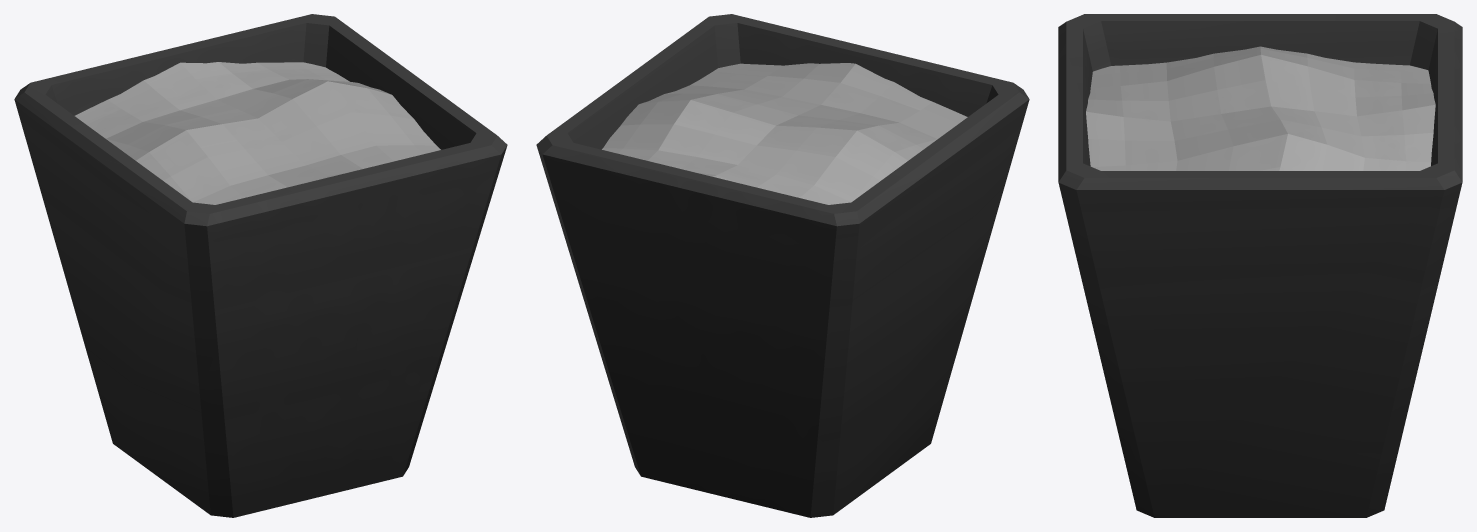
The model's file is Cubo_De_Basura.fbx.
The picture shows the model from 3 angles, left to right: view 1: azimuth 30°, elevation 25°; view 2: azimuth 150°, elevation 25°; view 3: azimuth 270°, elevation 25°; orthographic projection. The views are drawn at different scales.
Visible parts, largest first — view 1: Cubo_De_Basura; view 2: Cubo_De_Basura; view 3: Cubo_De_Basura.
Boxes of the visible parts, x1,y1,x2,y2 form: Cubo_De_Basura: (14, 14, 507, 517); Cubo_De_Basura: (536, 14, 1029, 517); Cubo_De_Basura: (1058, 14, 1462, 517).
Bounding box in the file's own units: 0.9875 × 1.01 × 0.9875.
1 material, 1 textured.
